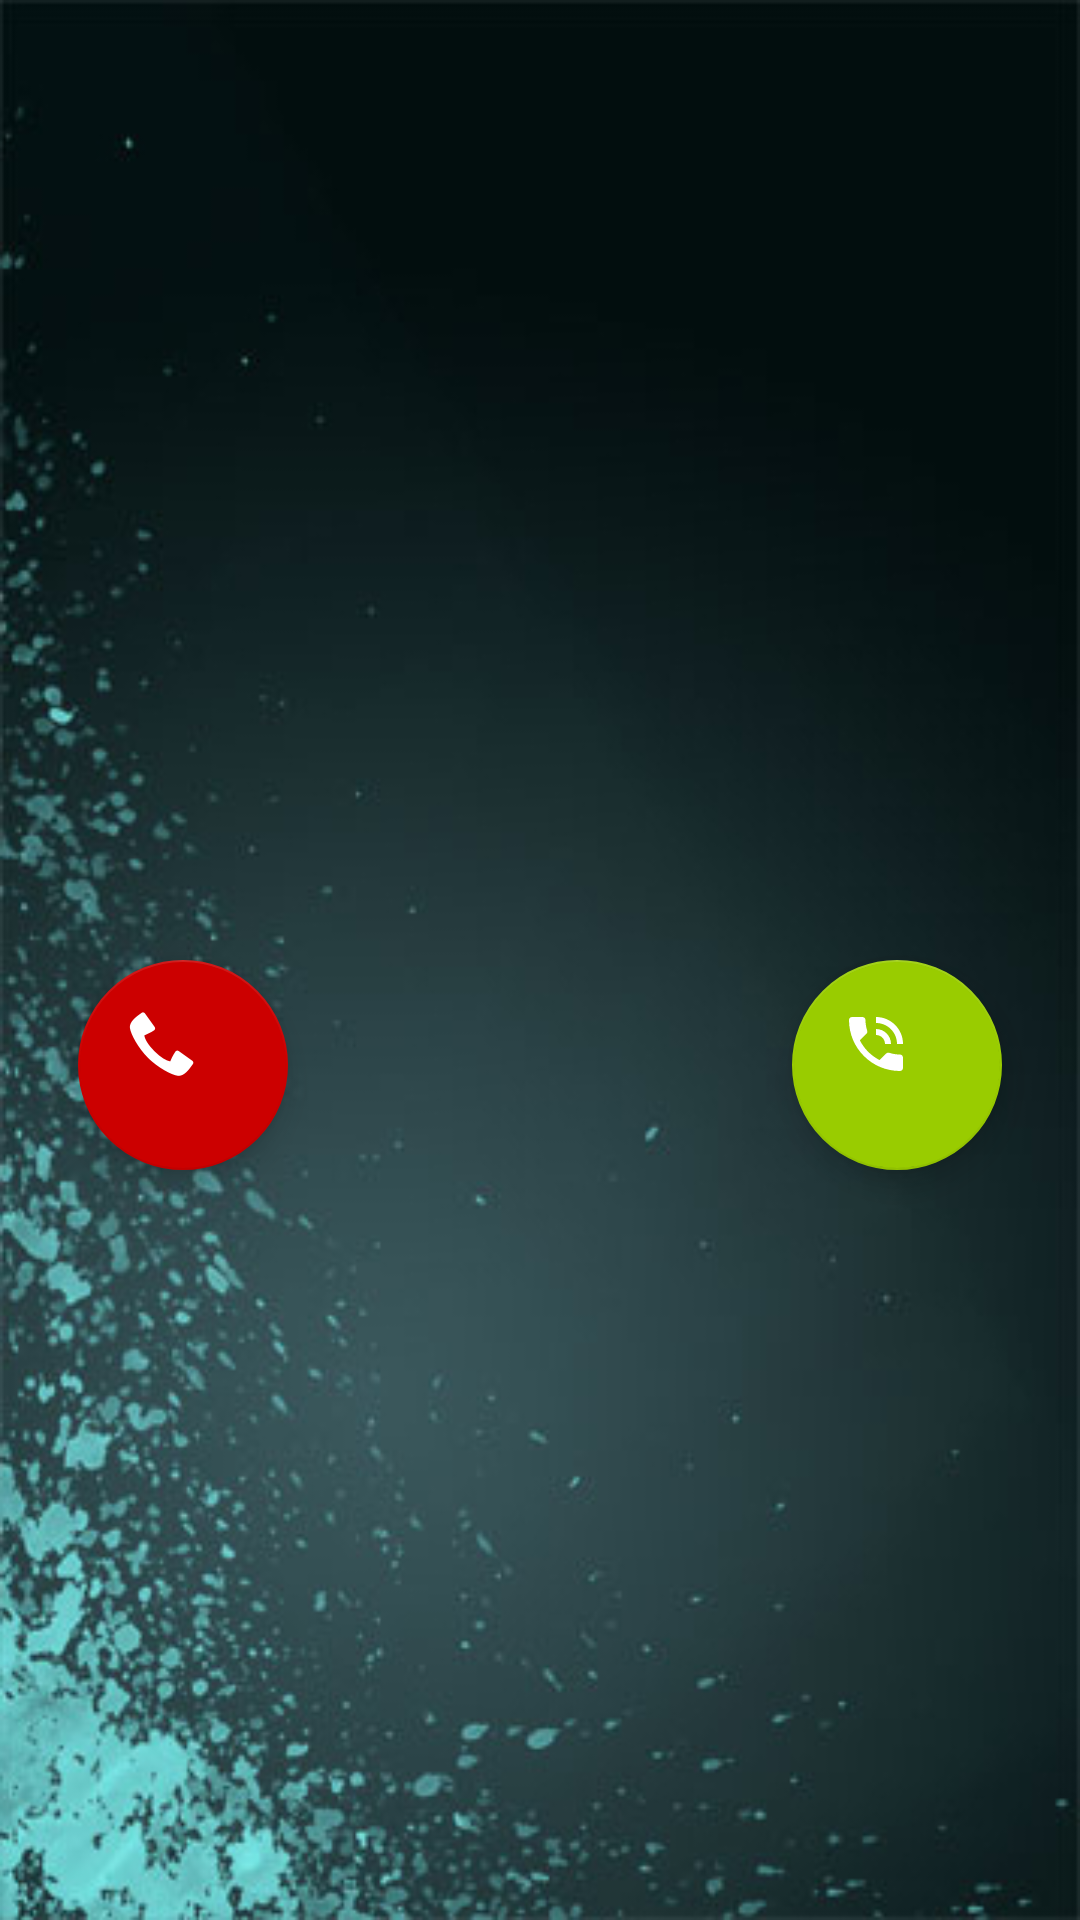

Named icons in this screenshot (1080×1920) and their bounding boxes, (x1, y1, x2, y2):
phone call: (78, 960, 288, 1170)
speakerphone: (792, 960, 1002, 1170)
